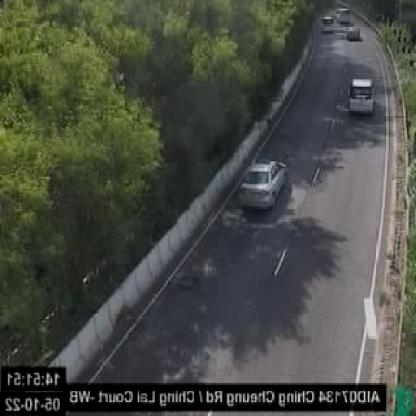Car: (238, 158, 287, 208), (350, 78, 376, 114), (346, 22, 359, 40)
